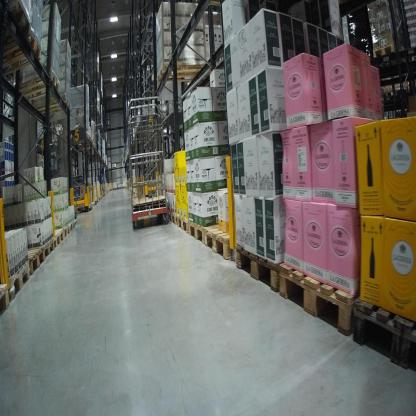pallet: (276, 255, 362, 349), (354, 290, 415, 373), (232, 239, 291, 303), (2, 36, 47, 87), (17, 70, 63, 106), (189, 213, 237, 247), (2, 1, 33, 51), (205, 225, 242, 266), (152, 59, 210, 85), (36, 90, 72, 122), (8, 265, 30, 303), (21, 247, 44, 278), (372, 43, 398, 63), (1, 277, 14, 317), (177, 209, 193, 235), (40, 240, 55, 261), (53, 226, 64, 249), (167, 207, 177, 228), (61, 224, 70, 240), (69, 220, 76, 230)
